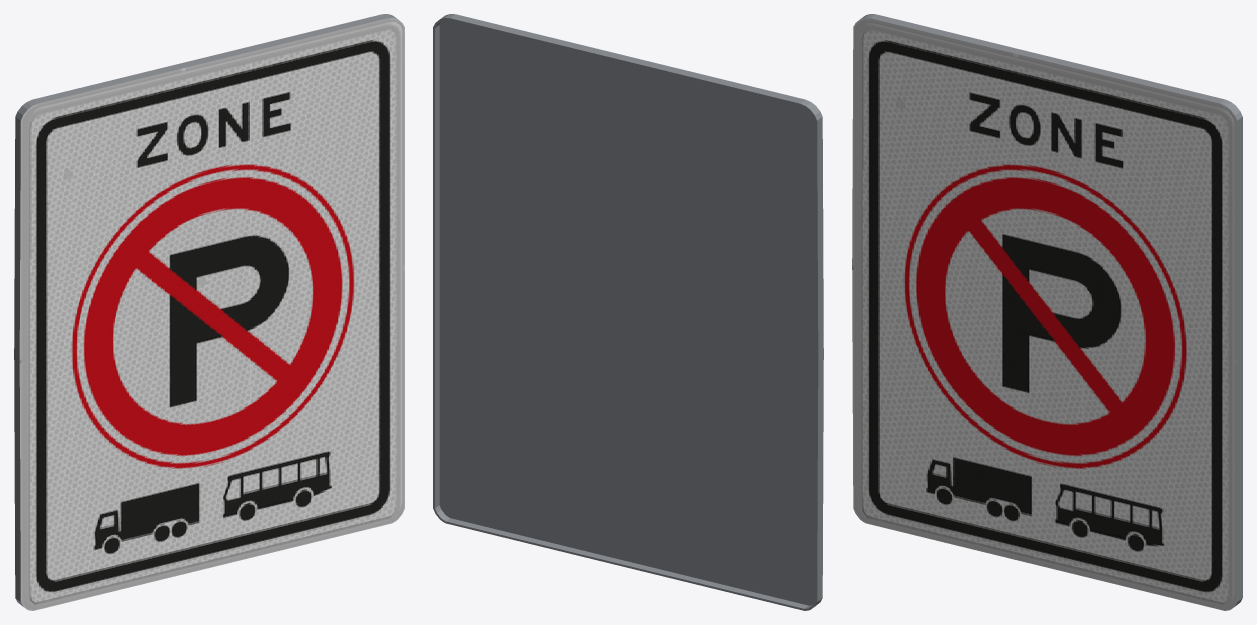
3 views of the same model, side by side, from view 1: azimuth 30°, elevation 25°; view 2: azimuth 150°, elevation 25°; view 3: azimuth 330°, elevation 25° (orthographic).
Visible parts, largest first — view 1: cat_f9ea937c4f860382; view 2: cat_f9ea937c4f860382; view 3: cat_f9ea937c4f860382.
Part boxes in pixels (box(x1,y1,x2,y2)): cat_f9ea937c4f860382: box(14, 14, 404, 610); cat_f9ea937c4f860382: box(433, 14, 823, 610); cat_f9ea937c4f860382: box(852, 14, 1242, 610).
Bounding box in the file's own units: 0.6 × 0.015 × 0.7535.
Materials: 2 (1 with a texture image).
